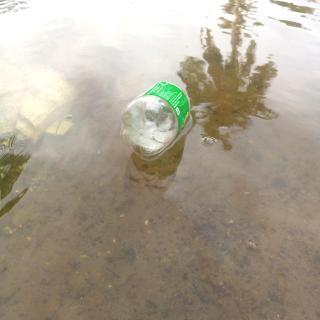bottle: (118, 81, 192, 158)
